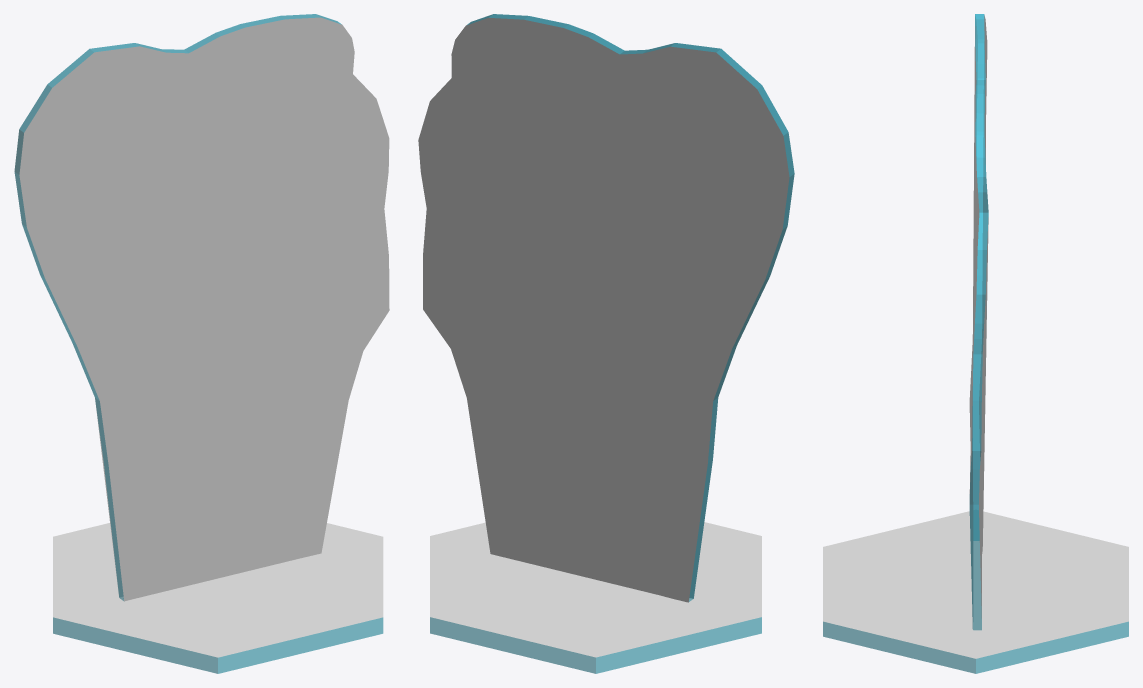
Rendered from Robot1.fbx.
3 views of the same model, side by side, from view 1: azimuth 30°, elevation 25°; view 2: azimuth 150°, elevation 25°; view 3: azimuth 270°, elevation 25° (orthographic). The views are drawn at different scales.
Parts seen in each view (by area): view 1: Robot1; view 2: Robot1; view 3: Robot1.
Part boxes in pixels (x1,y1,x2,y2): Robot1: [14, 14, 389, 673]; Robot1: [418, 14, 794, 673]; Robot1: [823, 14, 1128, 673].
Bounding box in the file's own units: 3.09 × 4.6 × 2.39.
